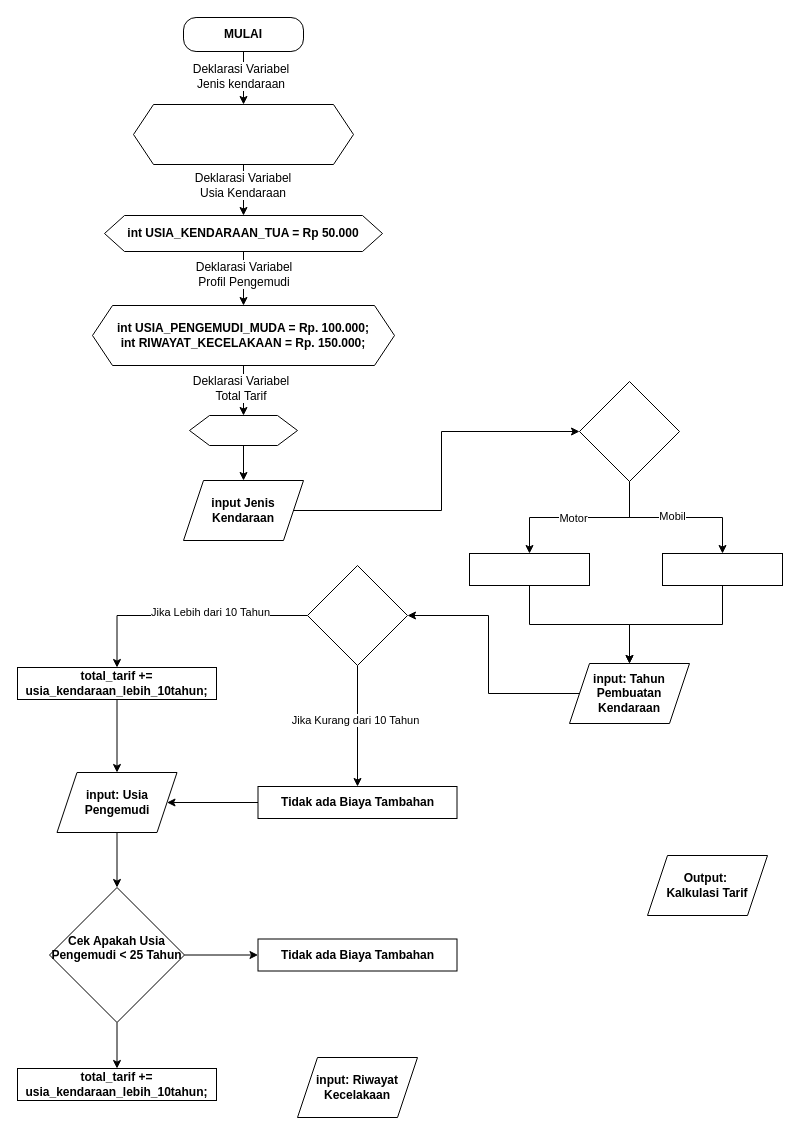
This 800x1135 diagram has some shape labels left out. Each missing label, with the box of its shape:
int MOTOR_TARIF = Rp 100.000; int MOBIL_TARIF = Rp 200.000;: (132, 104, 354, 164)
int totalTarif;: (188, 414, 298, 446)
Jenis Kendaraan: (578, 380, 680, 482)
Tahun Pembuatan > 10 Tahun: (306, 564, 408, 666)
total_tarif += Mobil;: (662, 552, 782, 586)
totalTarif += Motor;: (468, 552, 590, 586)
